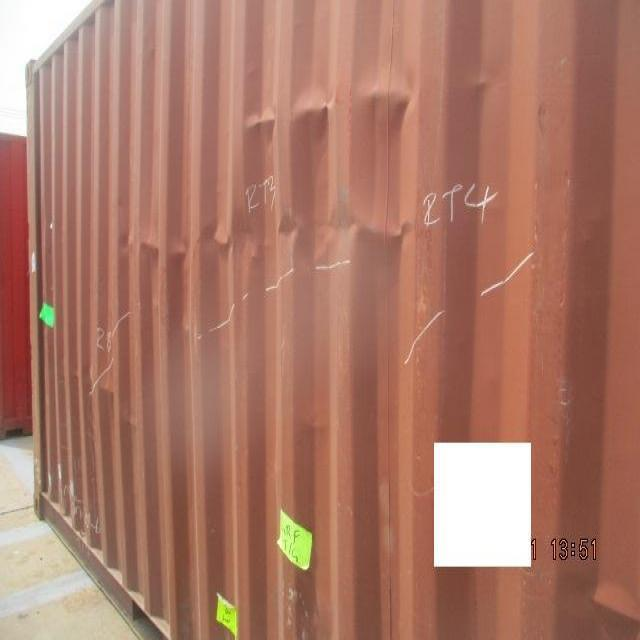dent: (109, 188, 450, 284), (228, 58, 427, 168)
